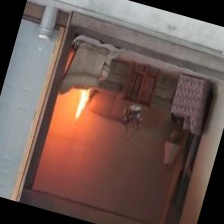fire: (62, 81, 99, 127)
